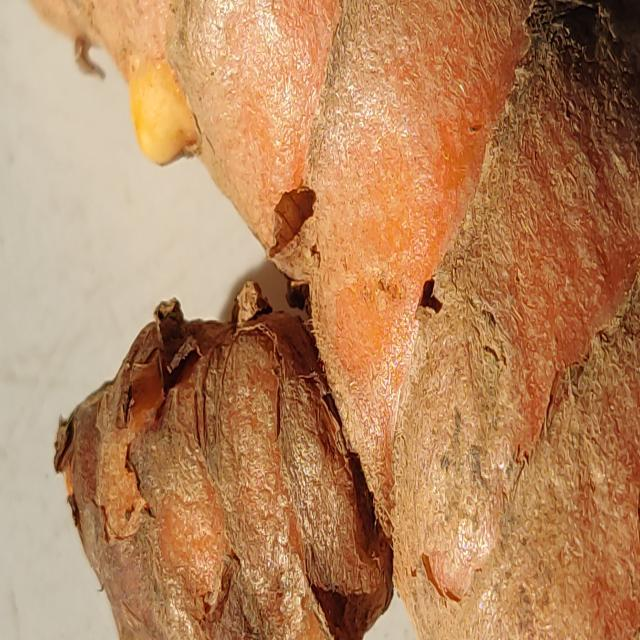ginger: (103, 0, 640, 640)
